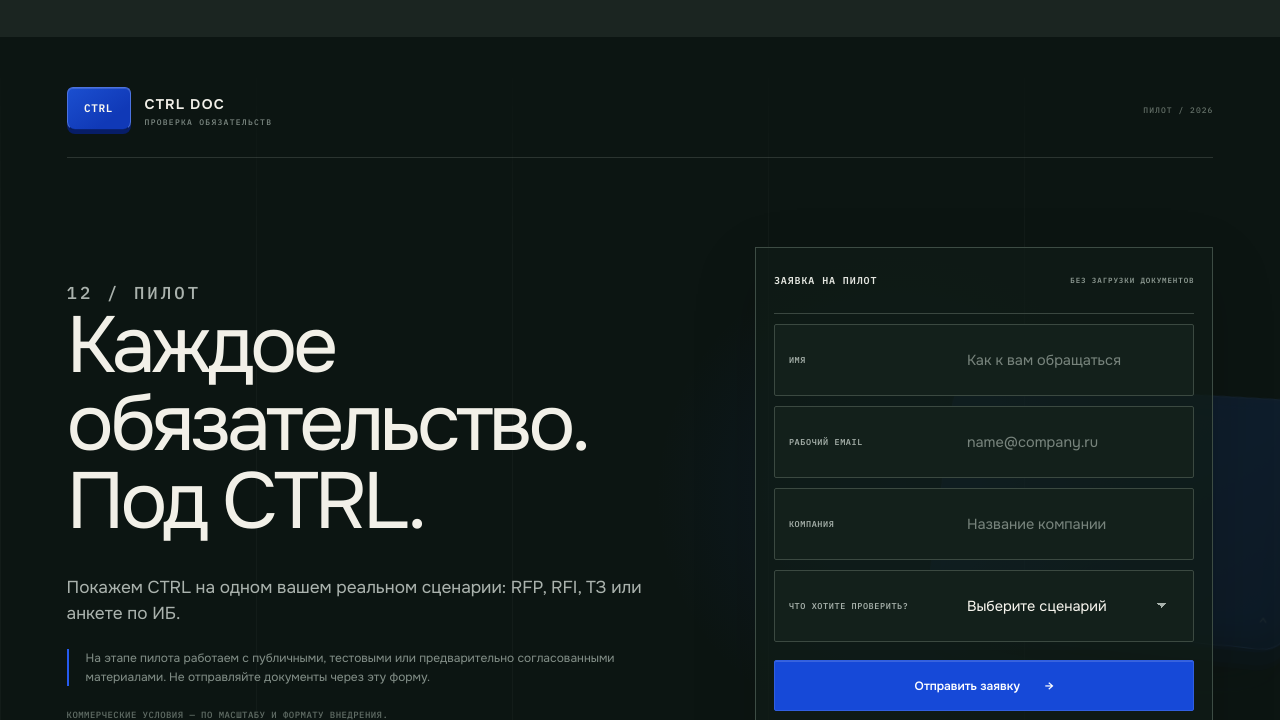
CTRL DOC public landing › shows a useful validation error without reporting success
The image size is (1280, 720).
(page scrolled)
Type "Анна" into the field labelled "Имя". click: (1068, 360)
box: [957,337,1180,383]
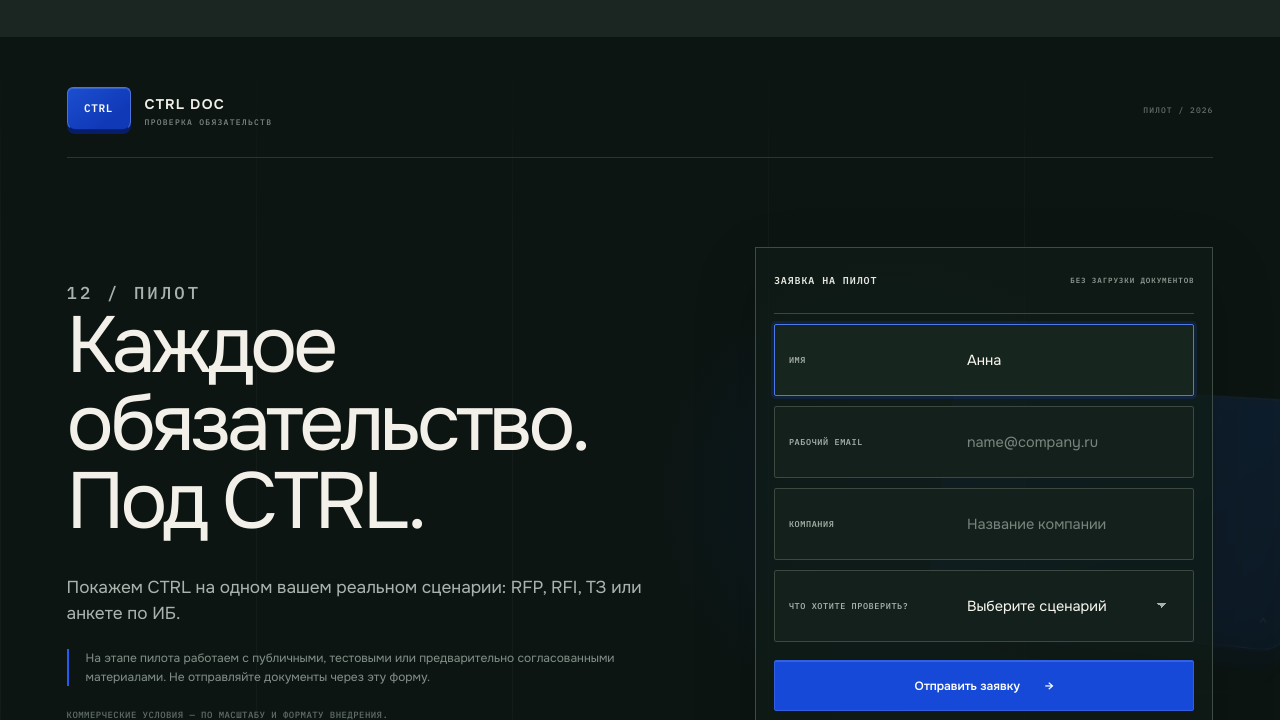
Type "anna@example.com" into the field labelled "Рабочий email". click: (1068, 442)
box: [957,419,1180,465]
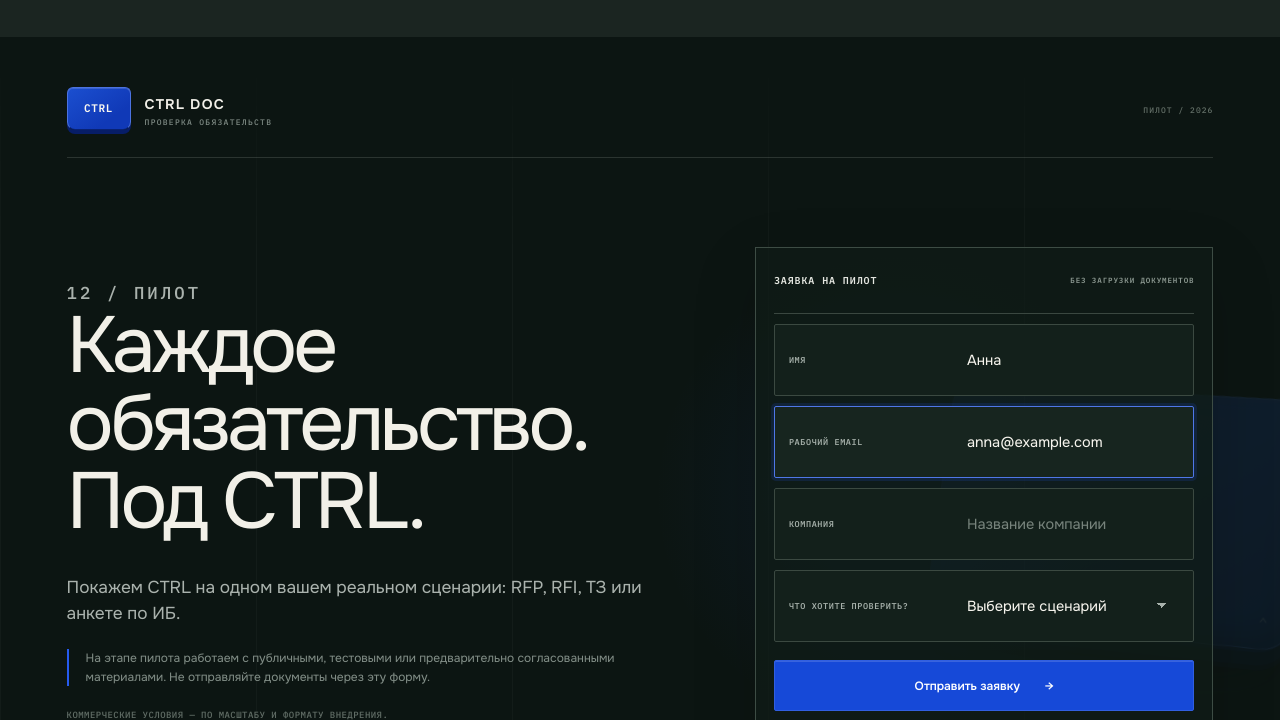
Type "Example" into the field labelled "Компания". click: (1068, 524)
box: [957,501,1180,547]
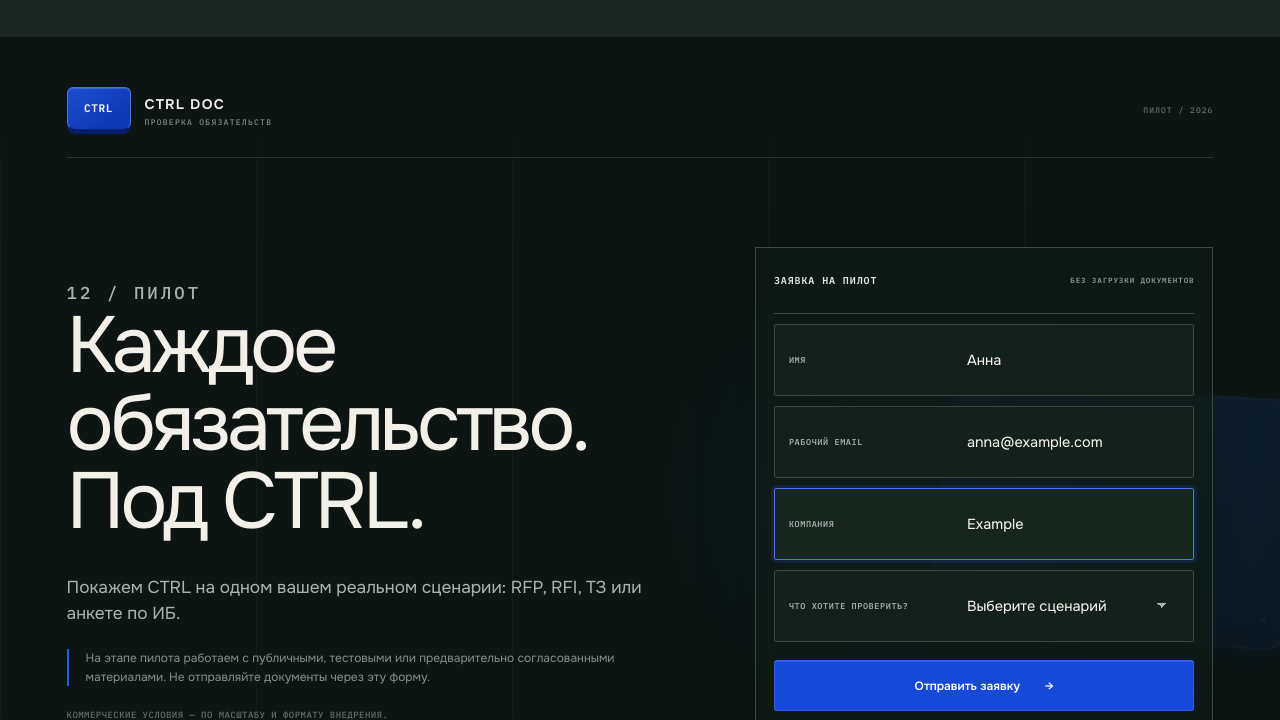
Select "RFP" in the dropdown labelled "Что хотите проверить?". click: (1068, 606)
box: [957,583,1180,629]
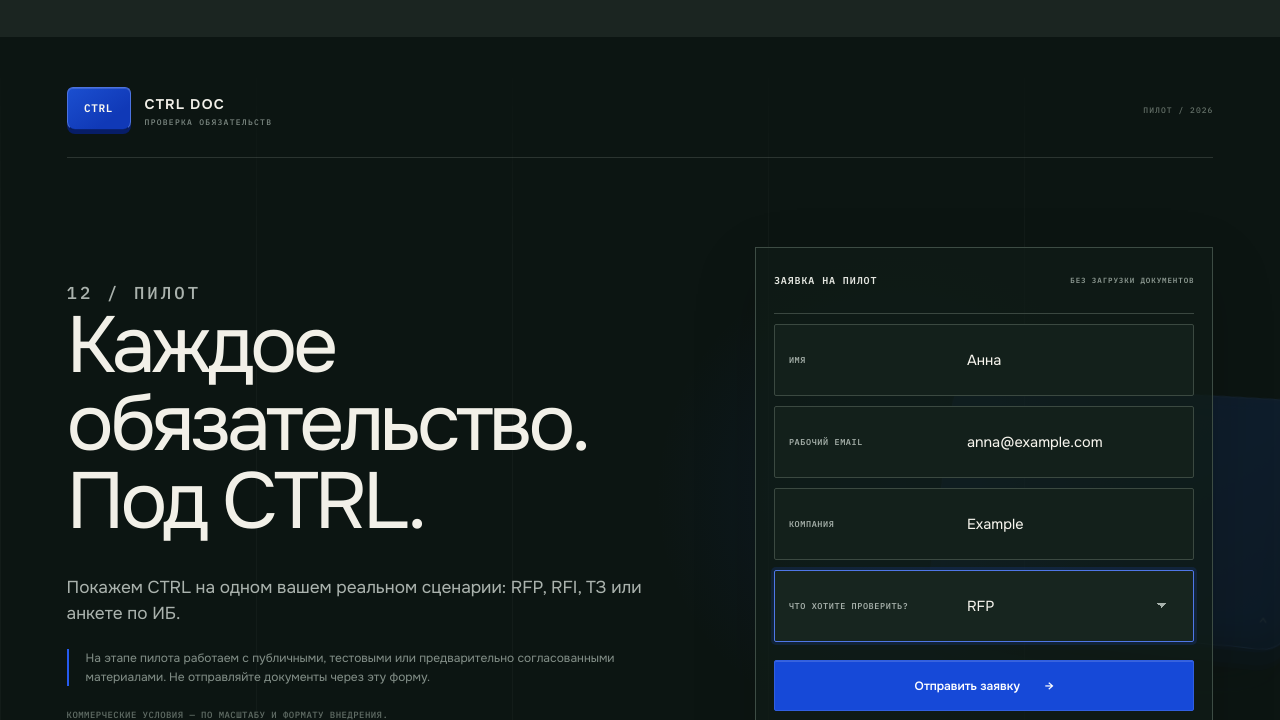
Click the button "Отправить заявку →". click: click(984, 686)
box: [774,660,1194,711]
(page scrolled)
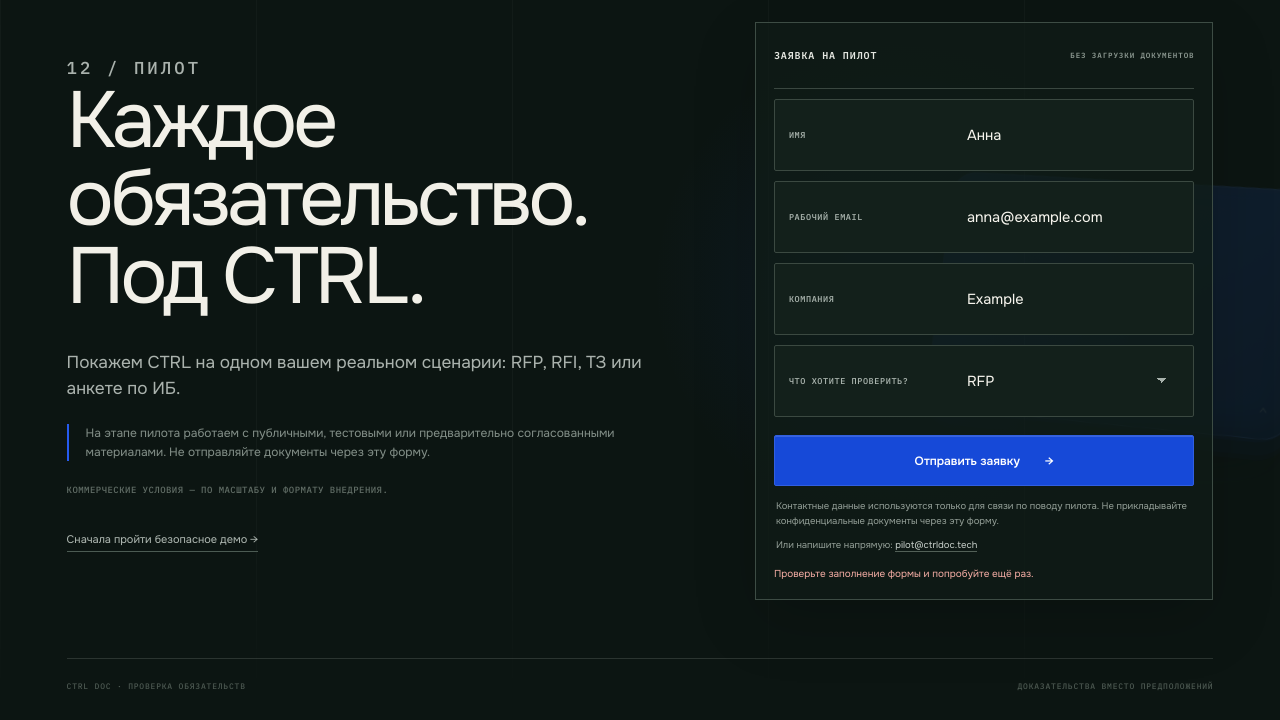
Expected: the message reads "Проверьте заполнение формы и попробуйте ещё раз.", [774,567,1034,580]
